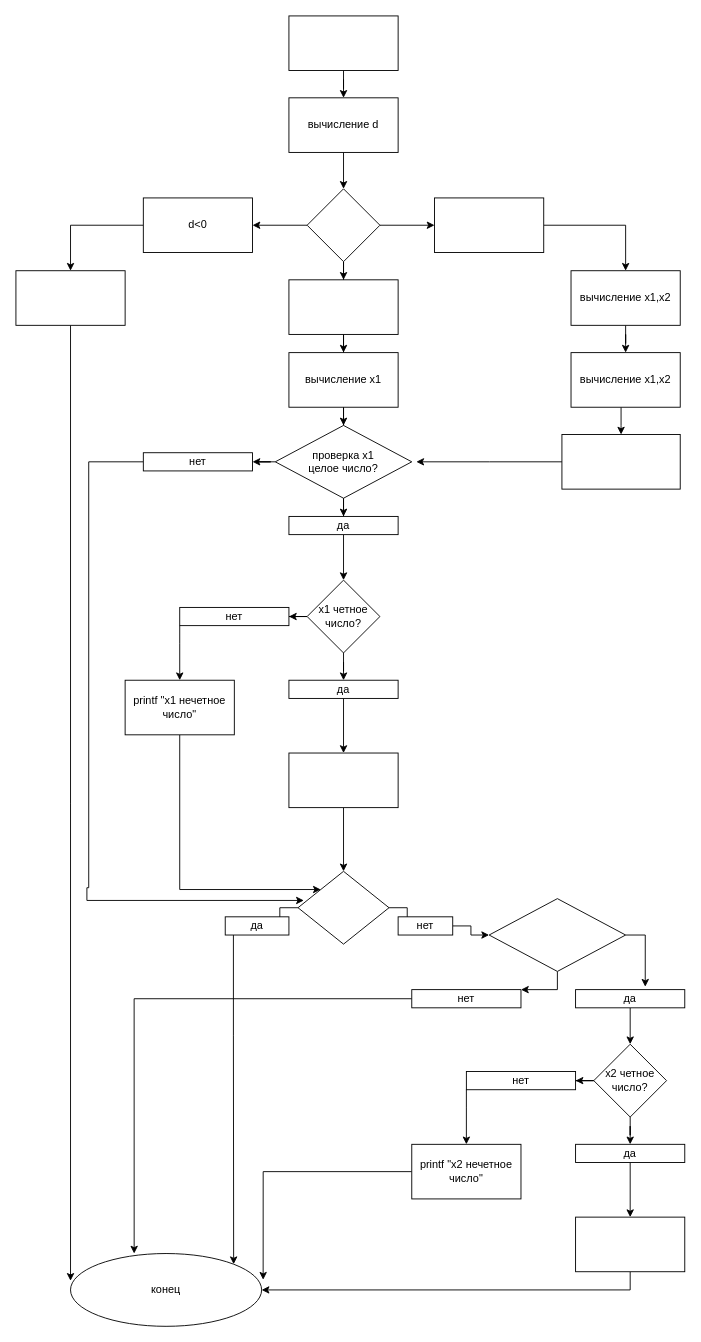
Image size: 701x1342. Some labels were removed from this diagram. The shapes that lost their labels are listed below. From the top down, each one's centre as x and y in pixels, then its label:
(343,43): ввод a,b,c
(343,225): проверка d
(489,225): d>0
(70,297): printf "Нет корней"
(343,306): printf "Один корень"
(620,461): printf x1,x2
(343,780): printf "x1 четное число"
(343,907): корень был один?
(557,934): проверка x2 целое число?
(630,1244): printf "x2 четное число"
